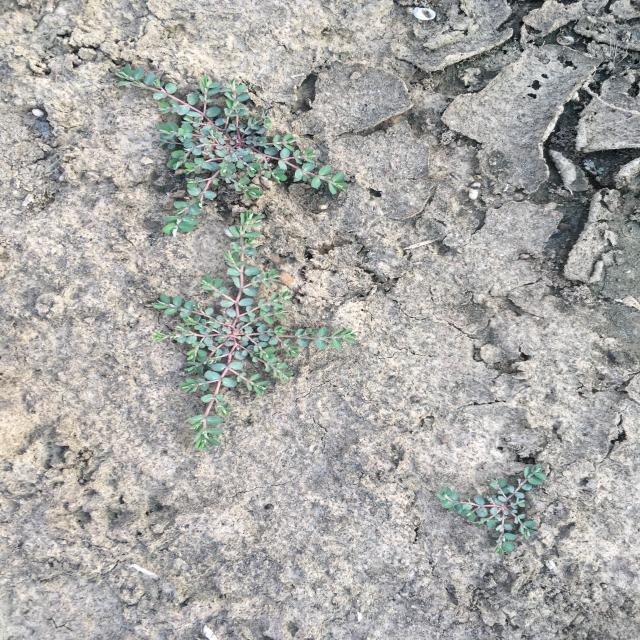SpottedSpurge: (150, 207, 360, 452), (113, 63, 352, 238), (435, 460, 548, 557)
